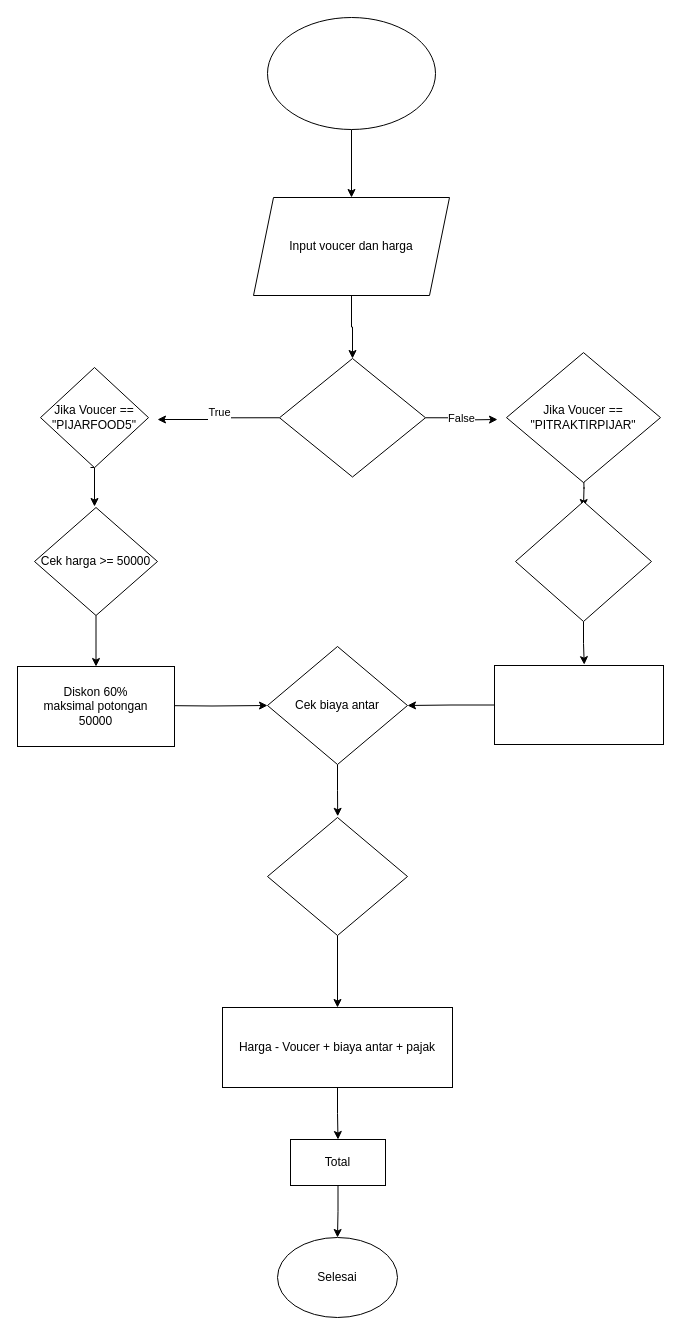
Some shapes in this 681 by 1335 pixel diagram are drawn without their labels. Here are the shapes that lost their labels. From the top down, the centre of each, then its label:
At (x=351, y=73): "Mulai".
At (x=352, y=417): "Cek voucer".
At (x=583, y=561): "Cek harga >= 25000".
At (x=579, y=704): "Diskon 50% maksimal potongan 30000".
At (x=337, y=876): "Cek biaya pajak".
